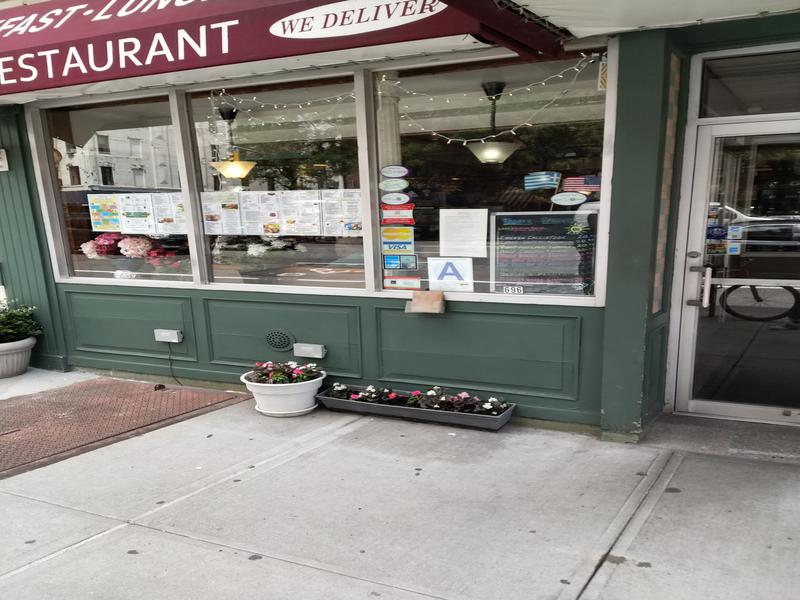door: (675, 116, 800, 434)
